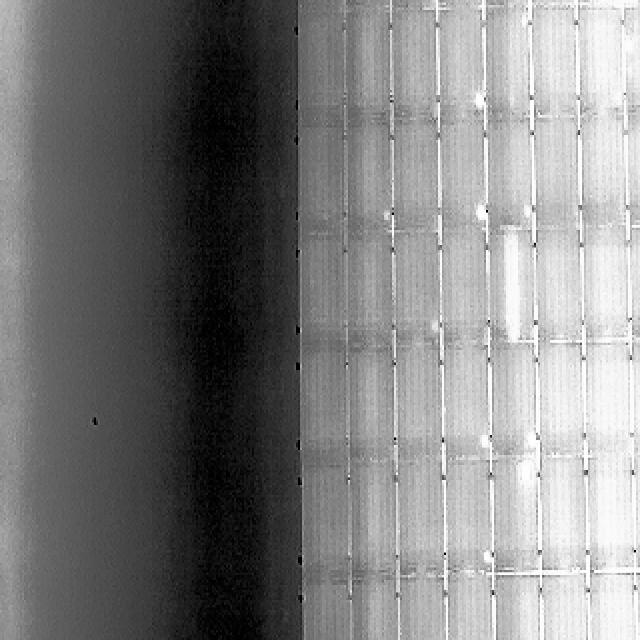Hotspots: (514, 8, 536, 32), (620, 29, 636, 59), (424, 315, 442, 340), (468, 89, 487, 112), (476, 424, 491, 453), (378, 205, 394, 229), (518, 463, 534, 487), (471, 202, 487, 224), (479, 545, 494, 568), (526, 426, 538, 452)
PV-modules: (435, 0, 486, 124), (300, 460, 354, 575), (297, 0, 345, 127), (344, 0, 392, 126), (484, 0, 532, 124), (533, 2, 580, 126), (586, 342, 633, 464), (537, 455, 586, 572), (536, 344, 584, 463), (438, 120, 487, 236), (392, 1, 438, 123), (348, 350, 398, 462), (392, 123, 441, 237), (394, 349, 444, 460), (348, 233, 395, 351), (534, 230, 582, 345), (393, 235, 442, 347), (448, 454, 494, 572), (488, 229, 536, 342), (579, 116, 628, 226), (399, 462, 447, 574), (346, 126, 396, 233), (300, 241, 349, 350), (300, 354, 350, 460), (532, 121, 581, 229), (351, 461, 398, 573), (584, 228, 630, 342), (442, 233, 488, 347), (488, 343, 531, 464), (444, 346, 491, 456), (298, 130, 346, 237), (489, 456, 533, 572), (486, 117, 530, 231), (585, 464, 634, 566), (586, 3, 626, 115), (448, 572, 500, 640), (396, 572, 448, 640), (542, 572, 590, 640), (590, 572, 638, 640), (492, 572, 540, 640), (306, 575, 356, 640), (354, 572, 398, 640), (626, 0, 640, 112), (626, 112, 640, 220), (628, 222, 640, 340), (630, 335, 640, 455), (630, 452, 640, 570), (634, 570, 640, 640)
